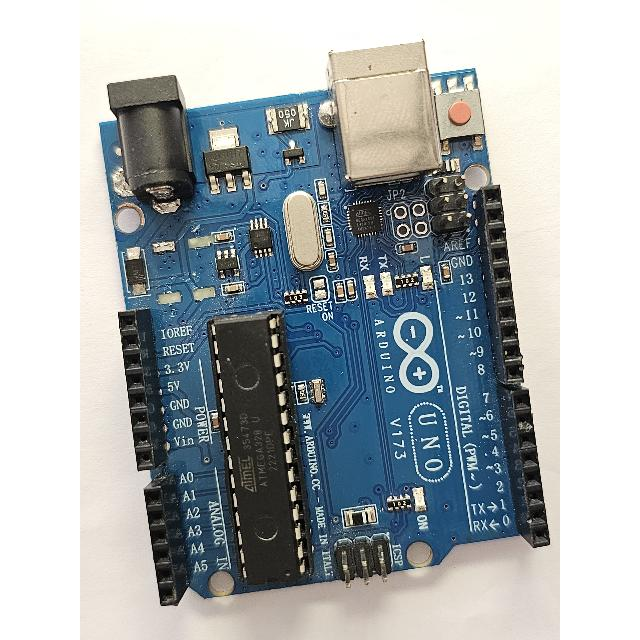missing_capacitors: (144, 222, 222, 311)
